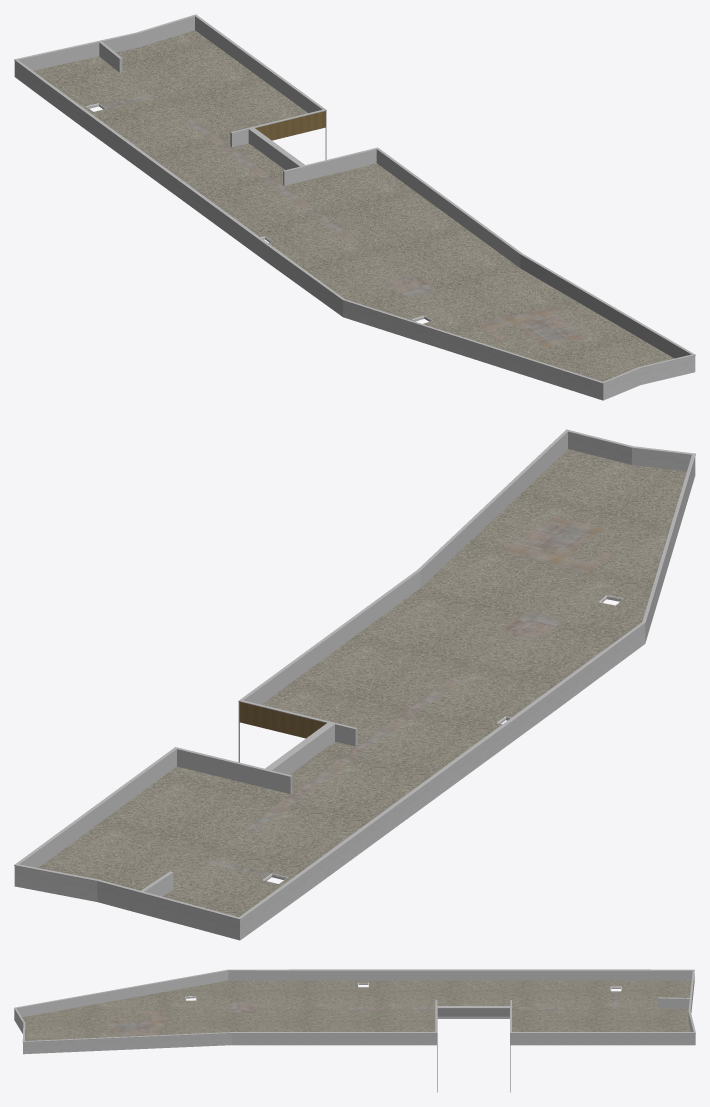
Rendered from imp_roof_aisle_b_sized.glb.
3 views of the same model, one above another, from view 1: azimuth 30°, elevation 25°; view 2: azimuth 150°, elevation 25°; view 3: azimuth 270°, elevation 25° (orthographic). The views are drawn at different scales.
Parts seen in each view (by area): view 1: NOCOL_Cube_124; view 2: NOCOL_Cube_124; view 3: NOCOL_Cube_124.
Boxes of the visible parts, left/top/right/bottom form: NOCOL_Cube_124: left=14, top=14, right=695, bottom=400; NOCOL_Cube_124: left=14, top=429, right=695, bottom=940; NOCOL_Cube_124: left=14, top=969, right=695, bottom=1092.
Size of what is drawn, in the model's own units: 18.94 by 7.26 by 75.17.
Materials: 7 (4 with a texture image).
